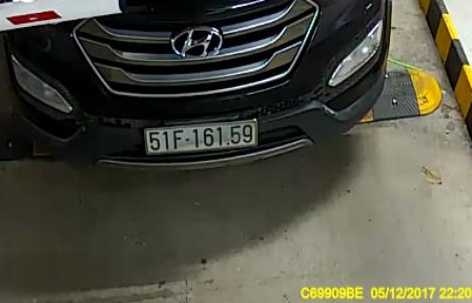plate: (137, 115, 266, 163)
